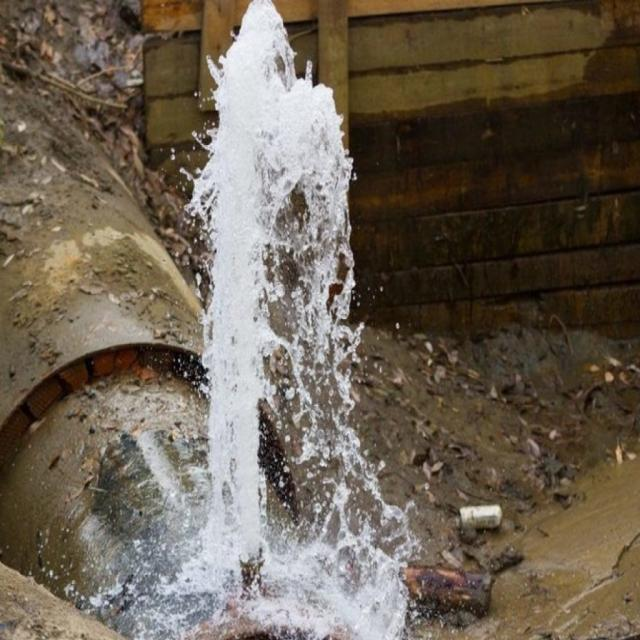leak: (172, 2, 412, 638)
